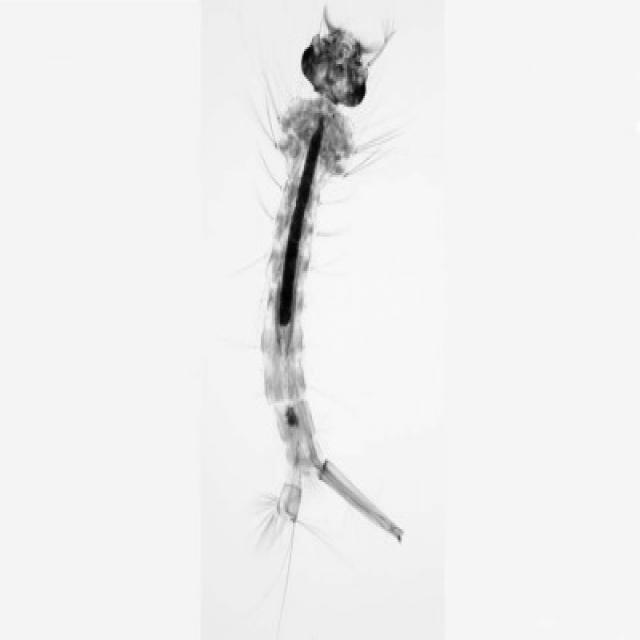larvas: (260, 18, 402, 550)
